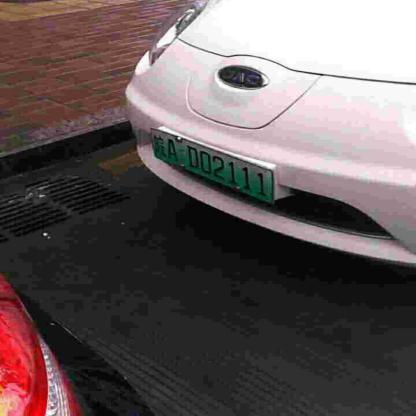lp: (150, 128, 272, 203)
